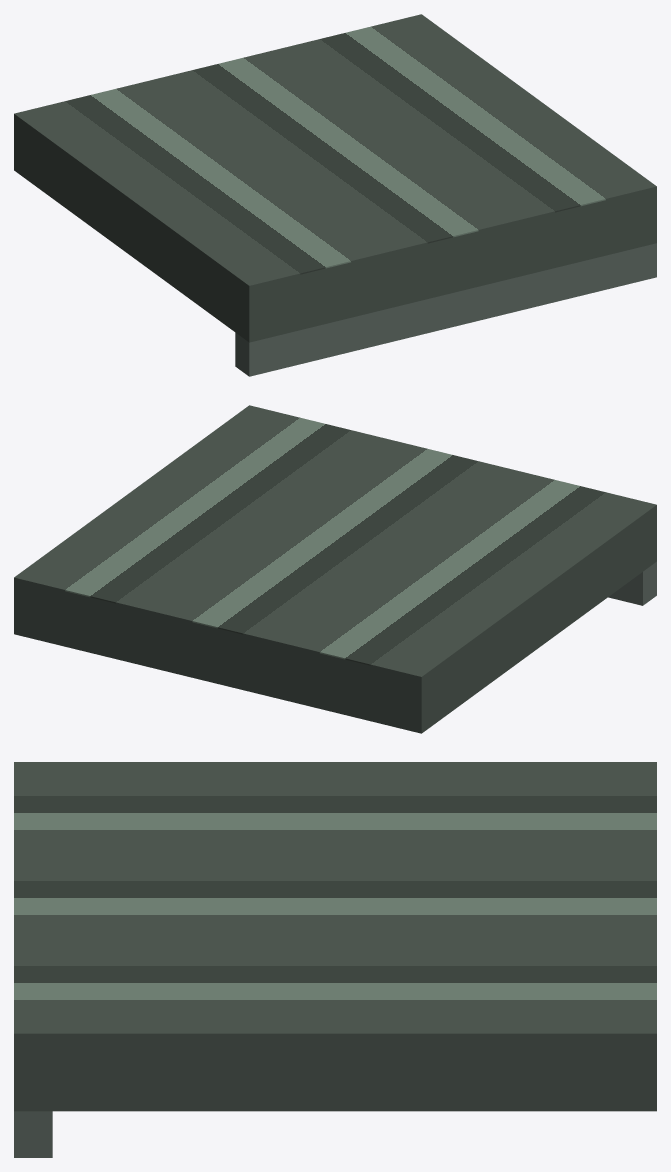
The model's file is CMU3DInteriorVehicleVanWindshieldTop.glb.
3 views of the same model, one above another, from view 1: azimuth 30°, elevation 25°; view 2: azimuth 150°, elevation 25°; view 3: azimuth 270°, elevation 25° (orthographic). The views are drawn at different scales.
Parts seen in each view (by area): view 1: overhead armor source finish, overhead armor, inner roof rib; view 2: overhead armor source finish, overhead armor, inner roof rib; view 3: overhead armor source finish, overhead armor, inner roof rib.
Part boxes in pixels (x1,y1,x2,y2): overhead armor source finish: (14, 14, 656, 286); overhead armor: (14, 115, 656, 342); inner roof rib: (235, 243, 656, 376); overhead armor source finish: (14, 405, 656, 677); overhead armor: (14, 506, 656, 733); inner roof rib: (608, 561, 656, 605); overhead armor source finish: (14, 762, 656, 1035); overhead armor: (14, 1035, 656, 1111); inner roof rib: (14, 1111, 52, 1157).
Size of the model in its own units: 1 by 0.213 by 1.
3 materials, 1 textured.
